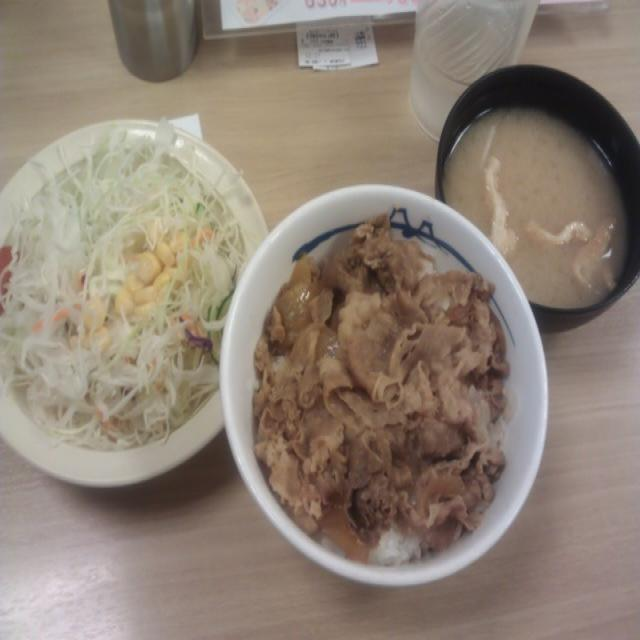Green Salad: (10, 150, 229, 462)
